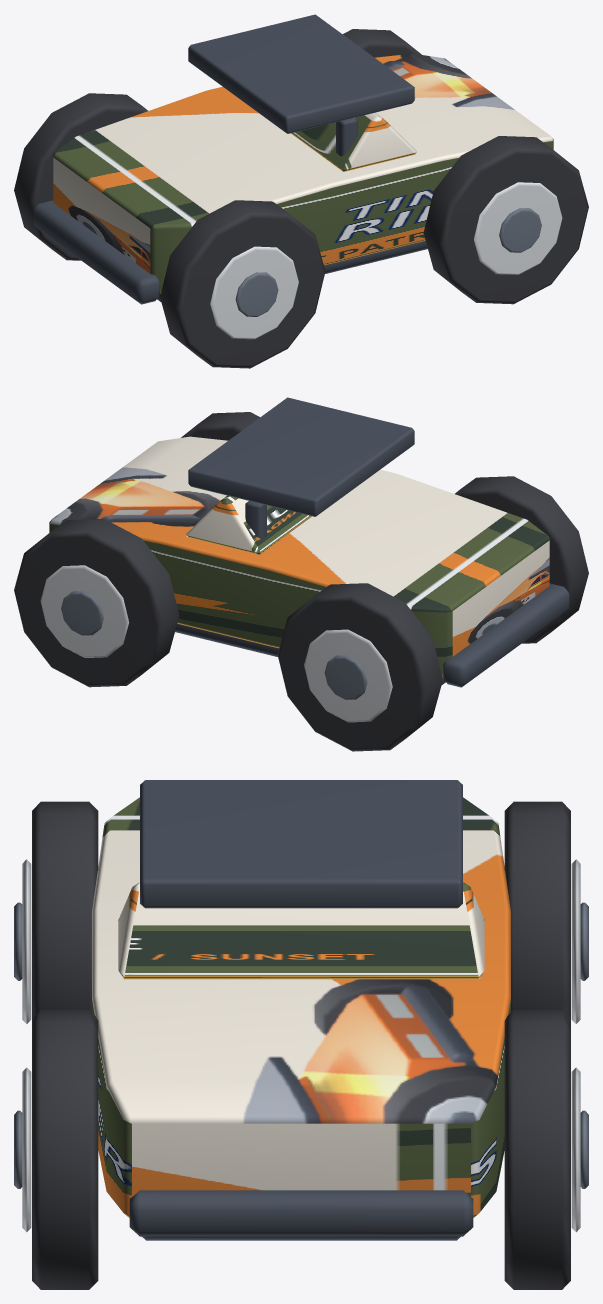
3 views of the same model, one above another, from view 1: azimuth 30°, elevation 25°; view 2: azimuth 150°, elevation 25°; view 3: azimuth 270°, elevation 25° (orthographic). The views are drawn at different scales.
Visible parts, largest first — view 1: DP-03_connected_shell, cage top, Tire, Tire.002, Tire.001, Rim.002, Rim, front bumper, DP-03_cabin, Hub, Hub.002, Tire.003 (+2 smaller); view 2: DP-03_connected_shell, cage top, Tire.001, Tire.003, Tire, Rim.003, Rim.001, front bumper, DP-03_cabin, Hub.001, Hub.003, Tire.002 (+2 smaller); view 3: DP-03_connected_shell, cage top, DP-03_cabin, Tire.002, Tire.003, rear bumper, Tire, Tire.001, Rim.002, Rim.003, Rim, Rim.001 (+5 smaller).
Boxes of the visible parts, x1,y1,x2,y2 form: DP-03_connected_shell: (53,53,553,293); cage top: (188,14,414,133); Tire: (160,200,325,368); Tire.002: (423,136,588,304); Tire.001: (14,93,147,260); Rim.002: (474,182,562,274); Rim: (210,246,298,339); front bumper: (33,200,160,304); DP-03_cabin: (291,112,416,171); Hub: (235,272,278,316); Hub.002: (499,208,541,252); Tire.003: (343,29,421,57); DP-03_connected_shell: (49,436,549,676); cage top: (188,397,414,516); Tire.001: (277,583,442,751); Tire.003: (14,519,179,687); Tire: (455,476,588,643); Rim.003: (40,565,128,657); Rim.001: (304,629,392,722); front bumper: (442,583,569,687); DP-03_cabin: (186,495,311,554); Hub.001: (324,655,367,699); Hub.003: (61,591,103,635); Tire.002: (181,412,259,440); DP-03_connected_shell: (92,797,510,1217); cage top: (140,780,462,908); DP-03_cabin: (118,882,484,979); Tire.002: (32,1010,98,1289); Tire.003: (504,1010,570,1289); rear bumper: (129,1190,473,1236); Tire: (32,801,98,1018); Tire.001: (504,801,570,1018); Rim.002: (22,1067,31,1232); Rim.003: (571,1067,580,1232); Rim: (22,859,31,1023); Rim.001: (571,859,580,1023).
Bounding box in the file's own units: 315 × 149 × 225.
